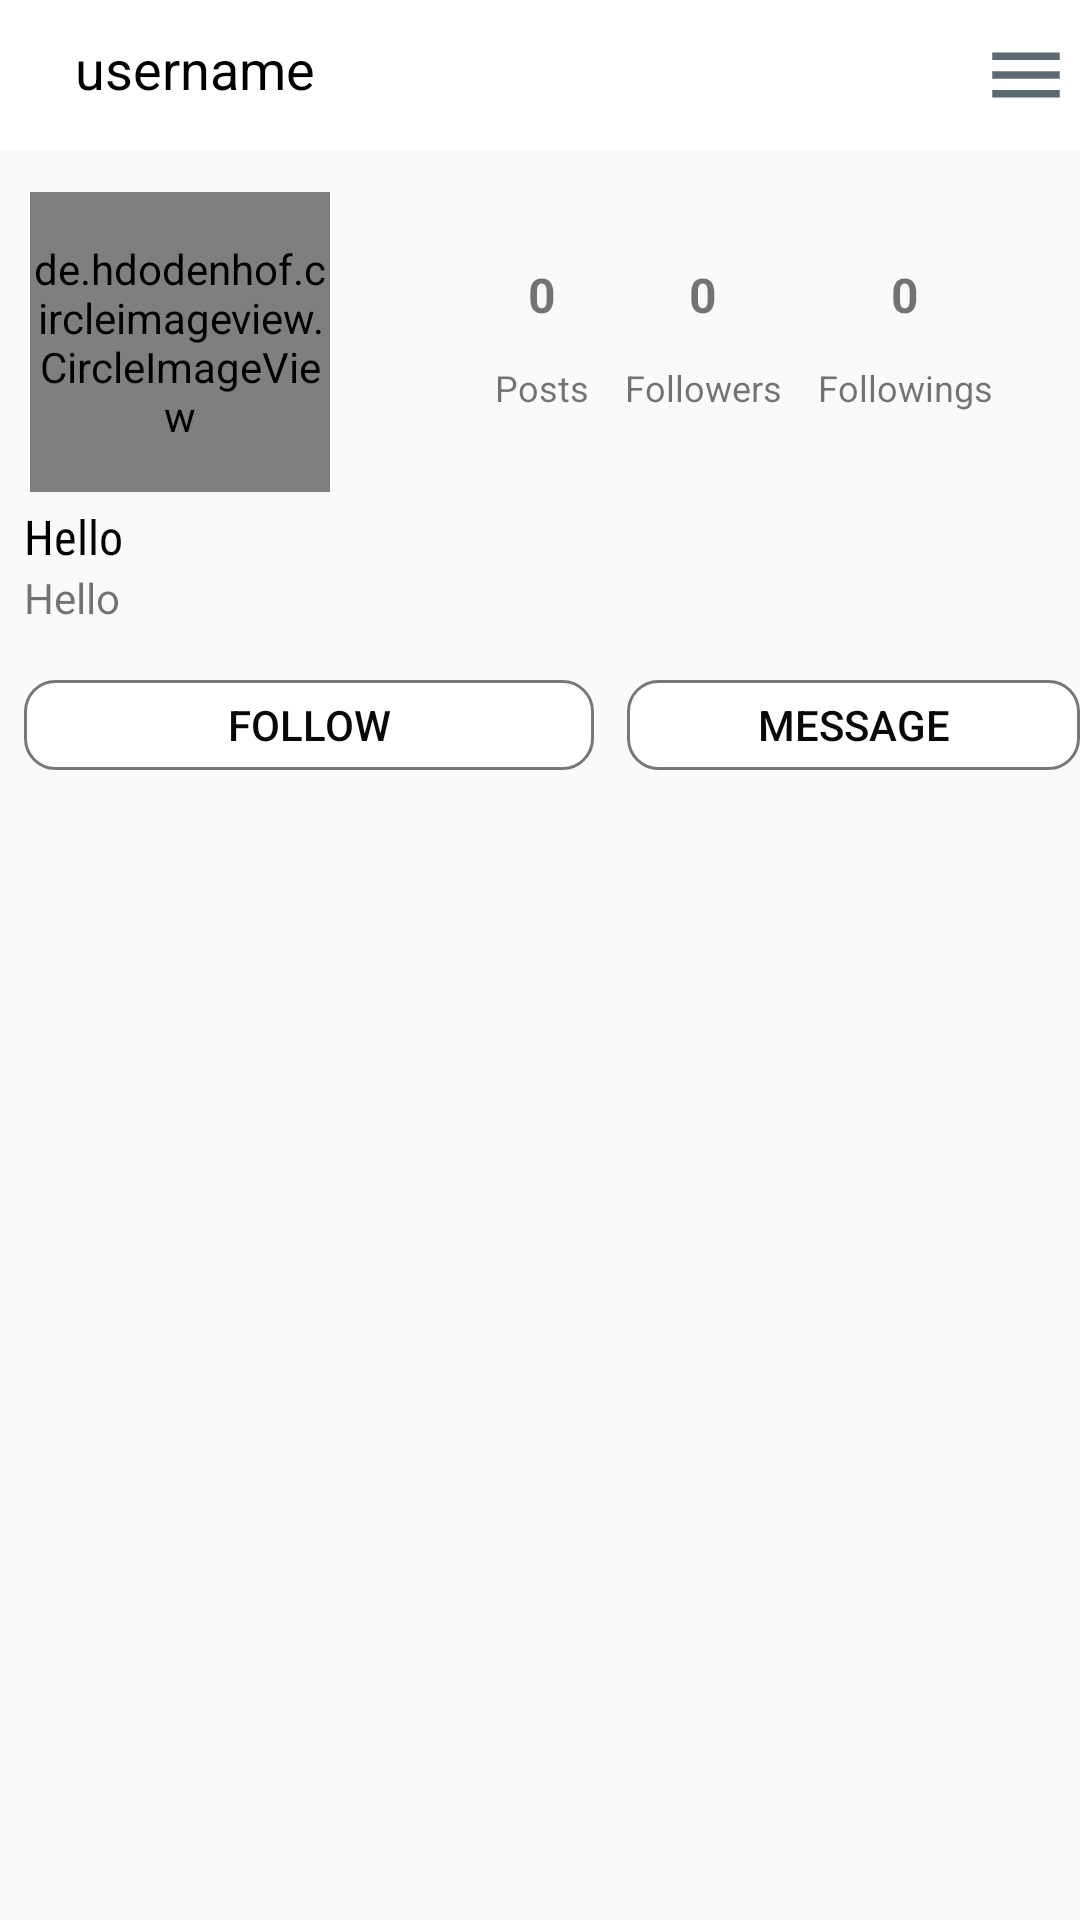

Icon bounding boxes for this 1080×1920 phone screenshot, format (x1, y1, x2, y2):
menu: (992, 52, 1060, 98)
